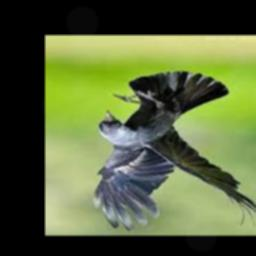Crow: (94, 72, 256, 231)
